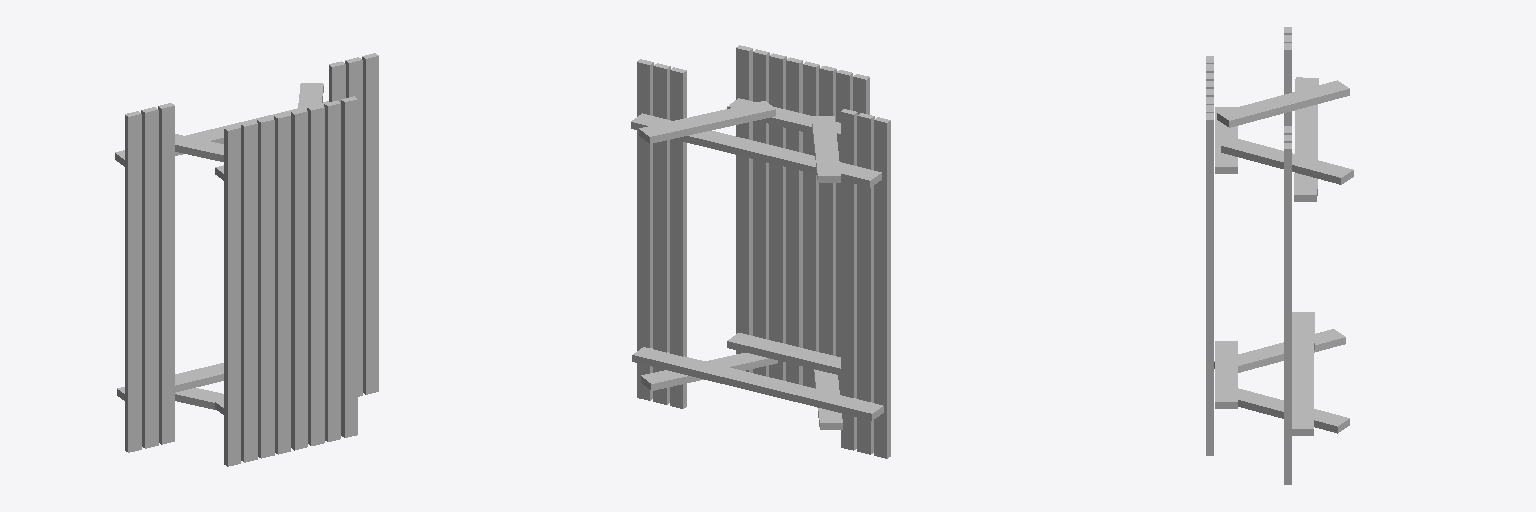
Rendered from Picnic Table.obj.
3 views of the same model, side by side, from view 1: azimuth 30°, elevation 25°; view 2: azimuth 150°, elevation 25°; view 3: azimuth 270°, elevation 25° (orthographic).
Visible parts, largest first — view 1: obj_0; view 2: obj_0; view 3: obj_0.
Part boxes in pixels (x1,y1,x2,y2): obj_0: (115, 53, 378, 466); obj_0: (631, 45, 890, 458); obj_0: (1206, 27, 1353, 484).
Size of the model in its own units: 75 by 96 by 38.25.